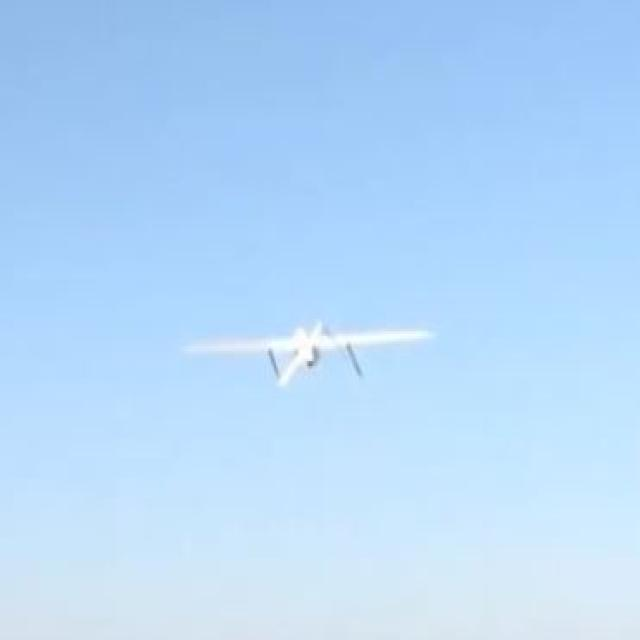iha: (182, 345, 439, 360)
